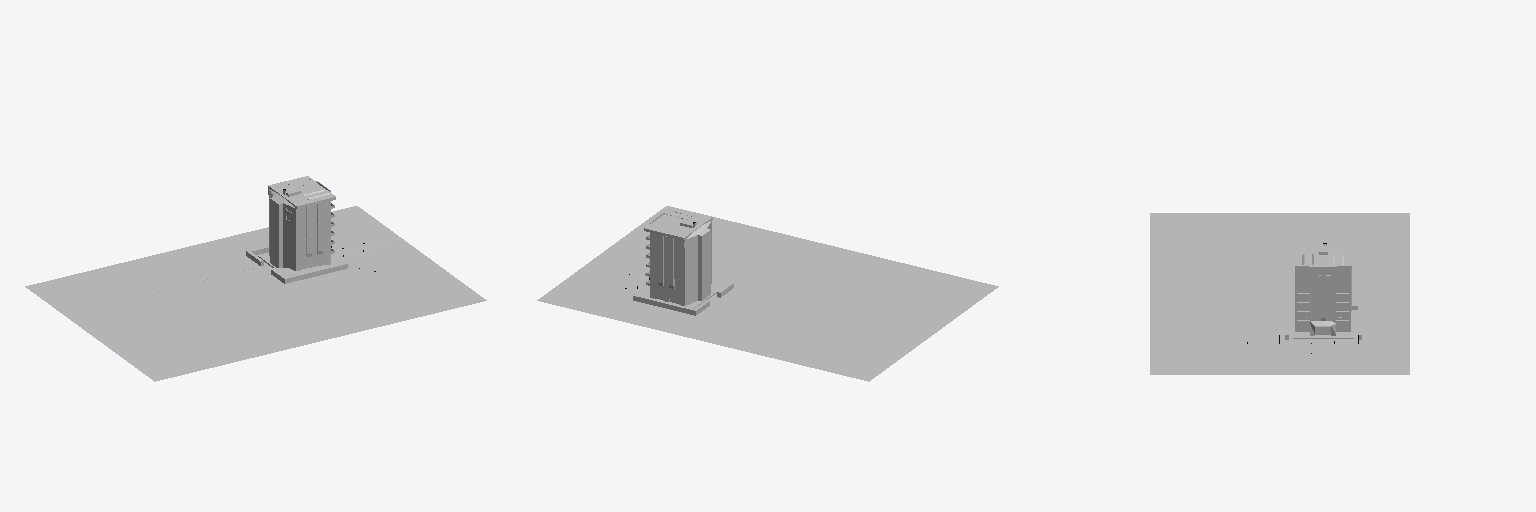
The model's file is Edificio.obj.
3 views of the same model, side by side, from view 1: azimuth 30°, elevation 25°; view 2: azimuth 150°, elevation 25°; view 3: azimuth 270°, elevation 25° (orthographic).
Visible parts, largest first — view 1: Suelo_Plano; view 2: Suelo_Plano; view 3: Suelo_Plano.
Boxes of the visible parts, <box> form: Suelo_Plano: <box>25,176,486,381</box>; Suelo_Plano: <box>537,206,998,381</box>; Suelo_Plano: <box>1150,213,1409,374</box>.
Size of the model in its own units: 48.55 by 10.51 by 32.91.